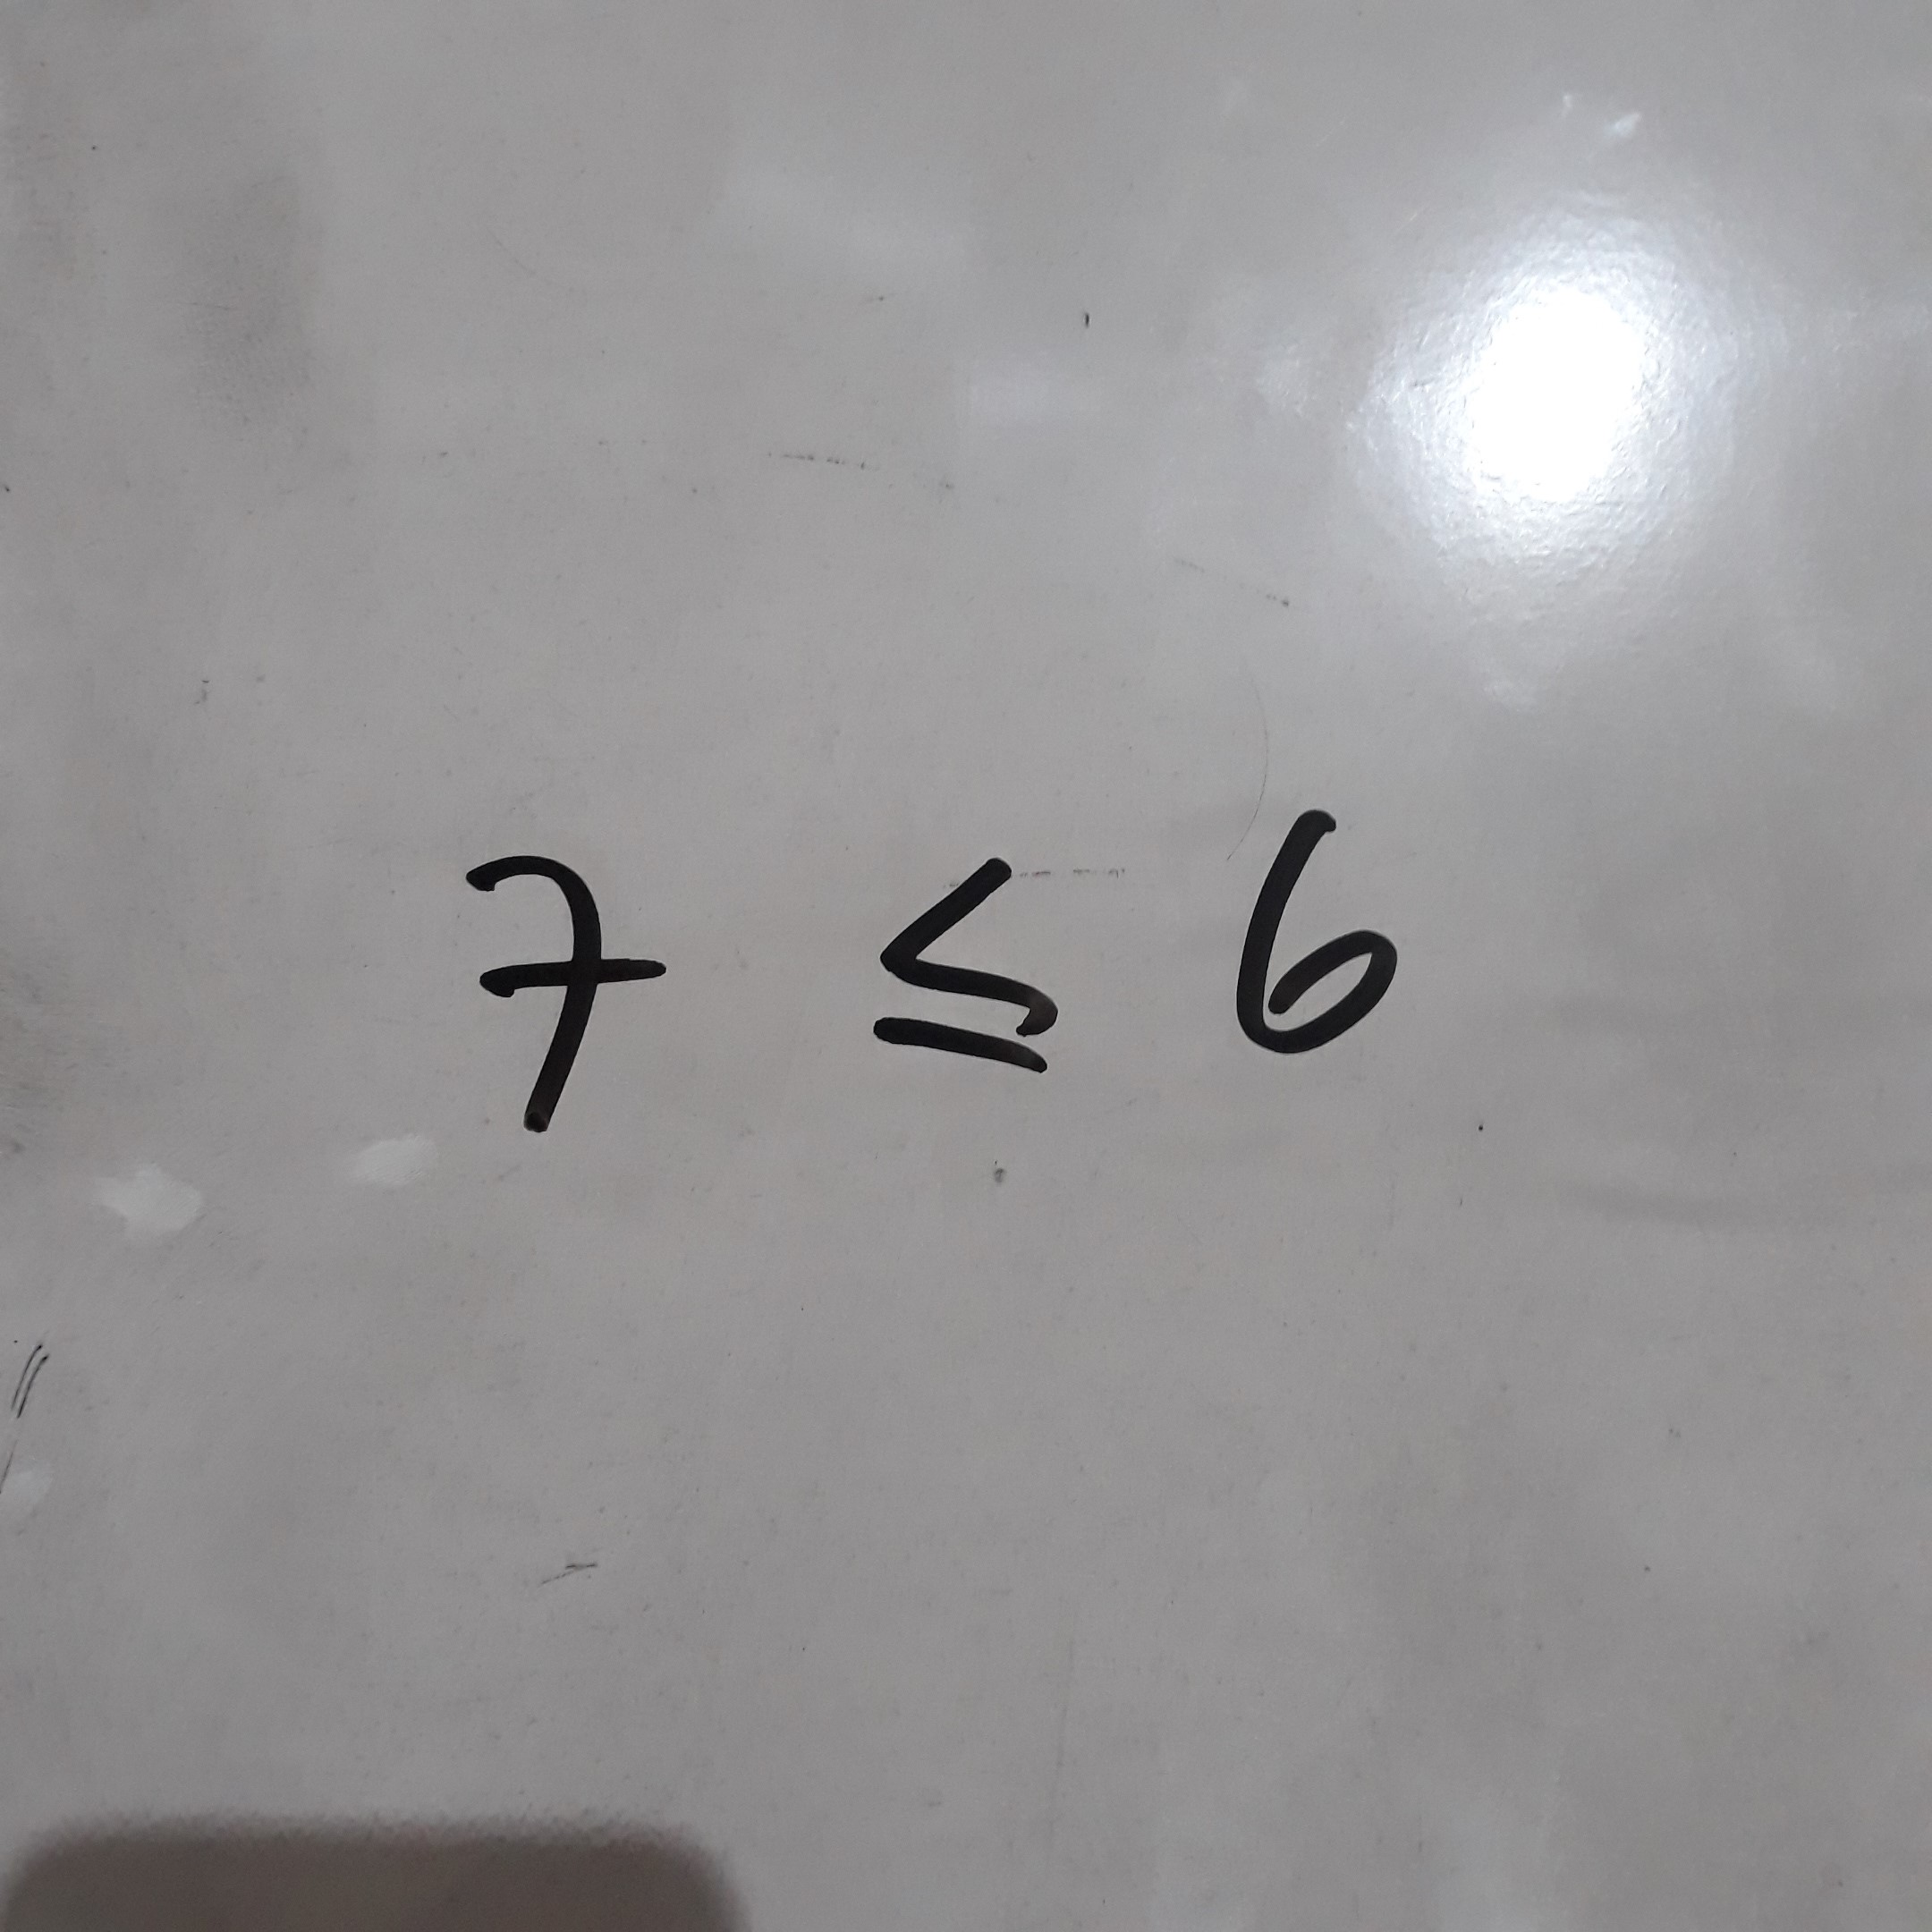lessthan-equal: (856, 837, 1096, 1091)
num6: (1217, 800, 1445, 1067)
num7: (442, 819, 682, 1160)
